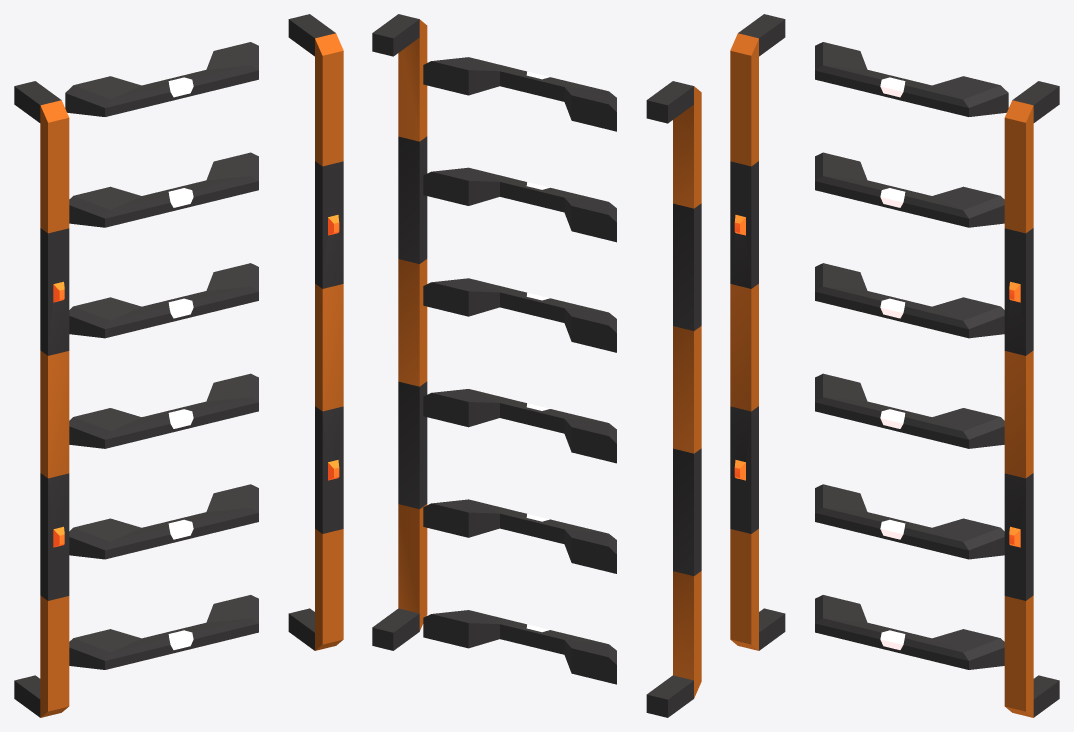
The model's file is scifi_scifi-ladder.fbx.
3 renders of one model, left to right at view 1: azimuth 30°, elevation 25°; view 2: azimuth 150°, elevation 25°; view 3: azimuth 330°, elevation 25°, orthographic.
Parts seen in each view (by area): view 1: scifi_scifi_ladder; view 2: scifi_scifi_ladder; view 3: scifi_scifi_ladder.
Part boxes in pixels (<box>): scifi_scifi_ladder: <box>14,14,343,717</box>; scifi_scifi_ladder: <box>372,14,701,717</box>; scifi_scifi_ladder: <box>730,14,1059,717</box>.
Size of the model in its own units: 101 by 200 by 22.08.
